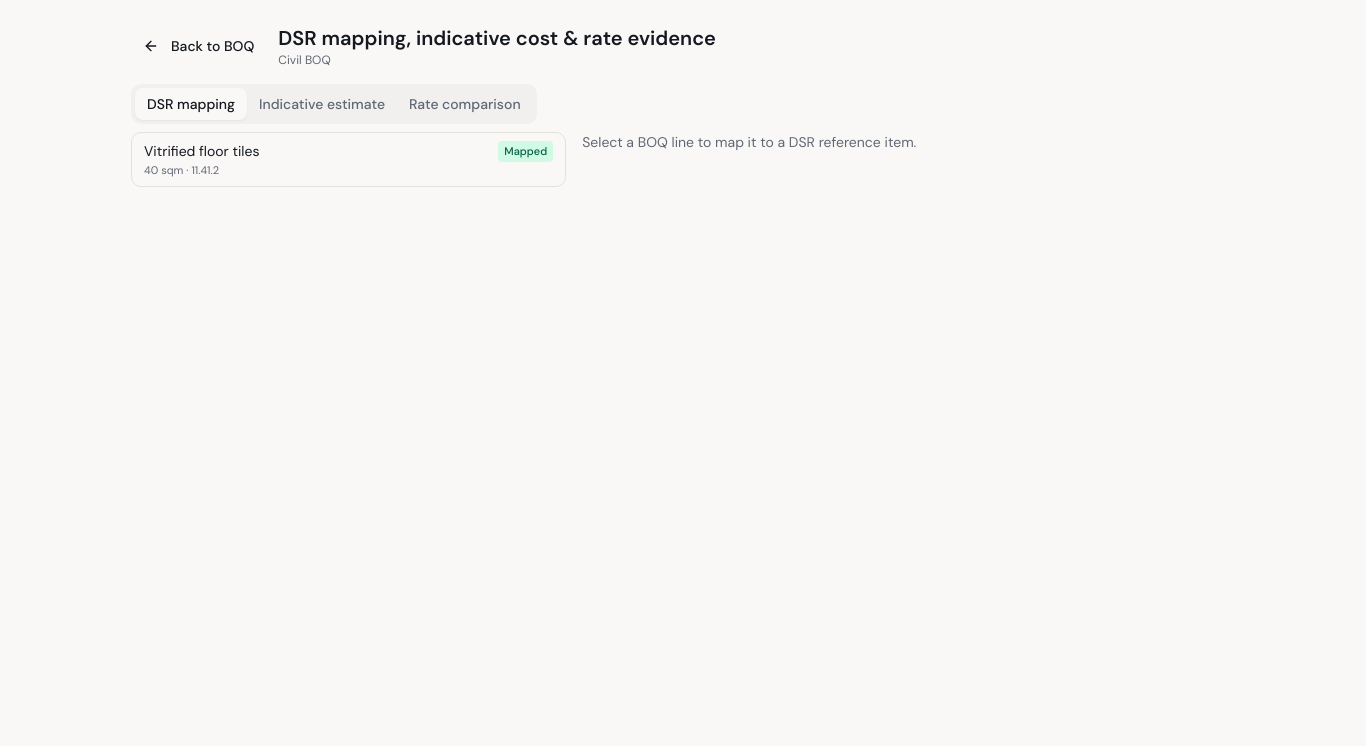
Scenario: BoqDsrMapping — explicit rate adoption › does not let the indicative estimate be adopted (it has no Adopt action)
Press the mouse on the tab "Rate comparison": (465, 104) [397,88,533,120]
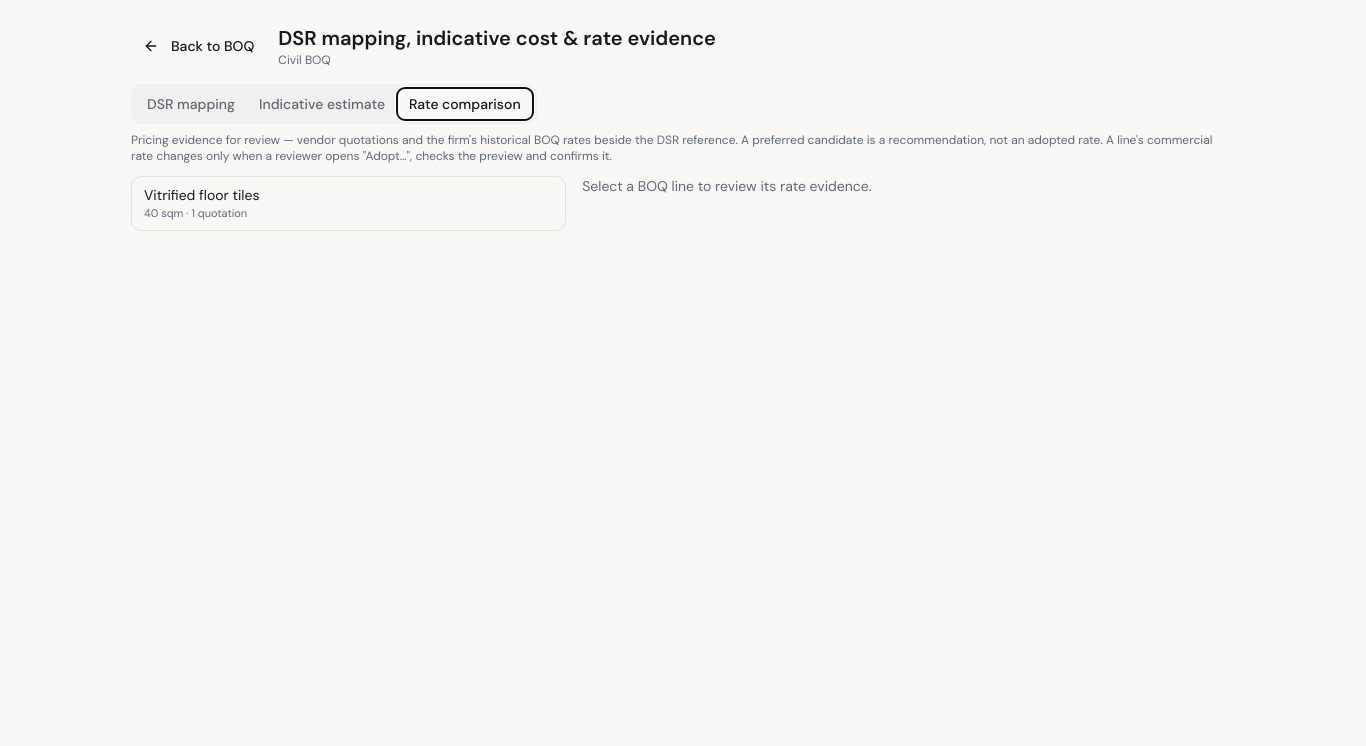
Click the button "Vitrified floor tiles 40 sqm · 1 quotation": (202, 195) [131,176,566,230]
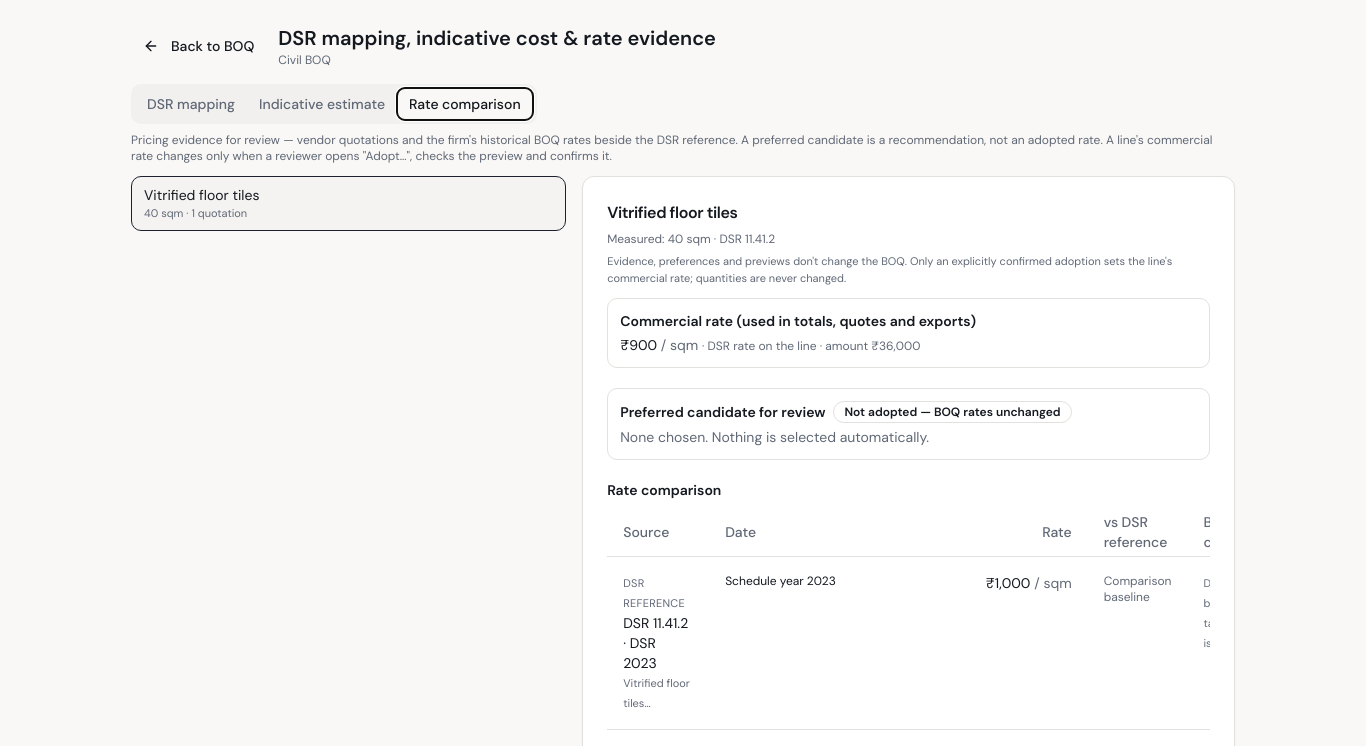
Check: the element with test id "commercial-rate" is shown, box [607,298,1210,368]
